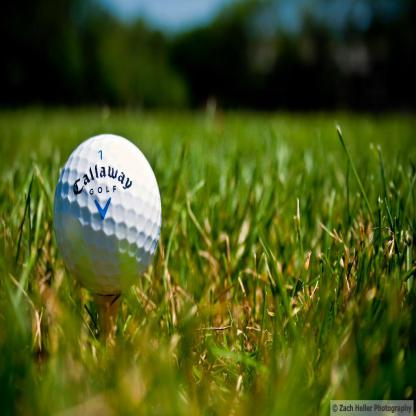Ball: (51, 132, 163, 297)
